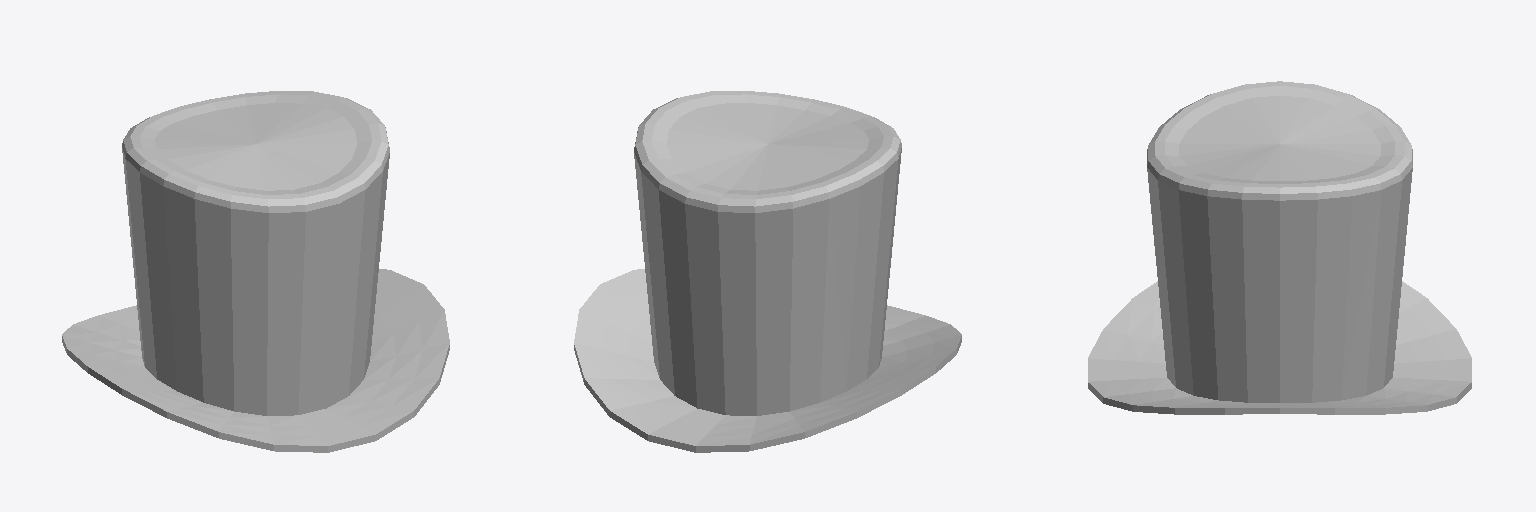
Rendered from Hat_FancyMan.obj.
The picture shows the model from 3 angles: view 1: azimuth 30°, elevation 25°; view 2: azimuth 150°, elevation 25°; view 3: azimuth 270°, elevation 25°; orthographic projection.
Visible parts, largest first — view 1: hat_fancyman; view 2: hat_fancyman; view 3: hat_fancyman.
Boxes of the visible parts, x1=… form: hat_fancyman: x1=62, y1=91, x2=449, y2=452; hat_fancyman: x1=574, y1=91, x2=961, y2=452; hat_fancyman: x1=1088, y1=81, x2=1471, y2=414.
Bounding box in the file's own units: 57.46 × 39.69 × 56.88.